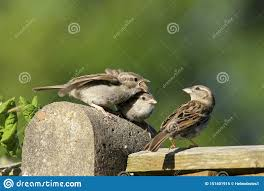hsparrow: (148, 82, 217, 159), (23, 69, 151, 109)
